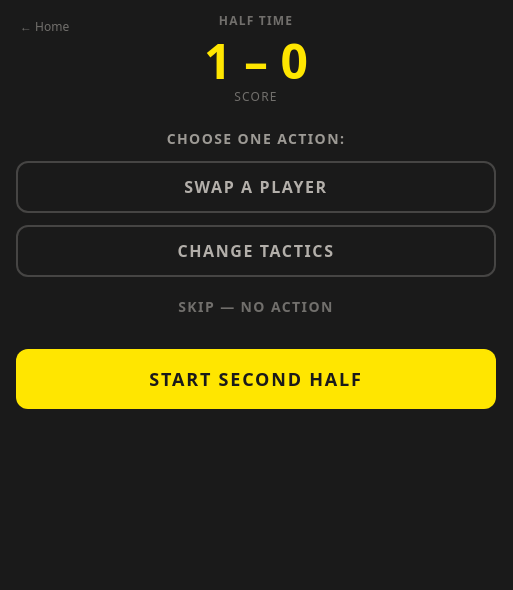
Test: HalftimeScreen › shows tactic sub-UI when tactic button is clicked
This screenshot has width=513, height=590.
Step 1. Click the button with test id "action-tactic-btn" → [256, 251], box [16, 225, 496, 277]
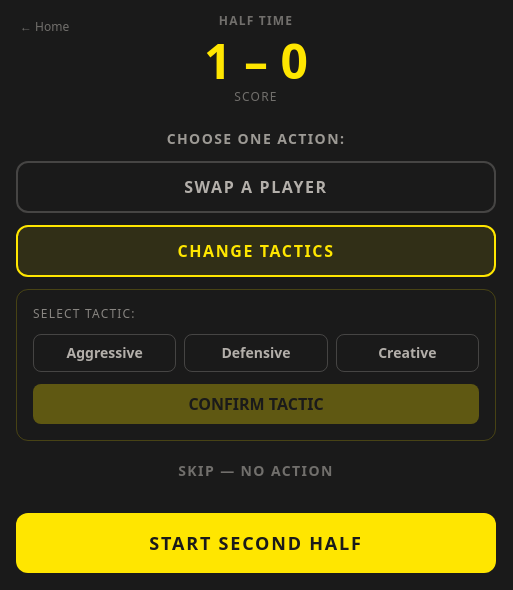
Expected: the element with test id "tactic-ui" is shown, [16, 289, 496, 441]
